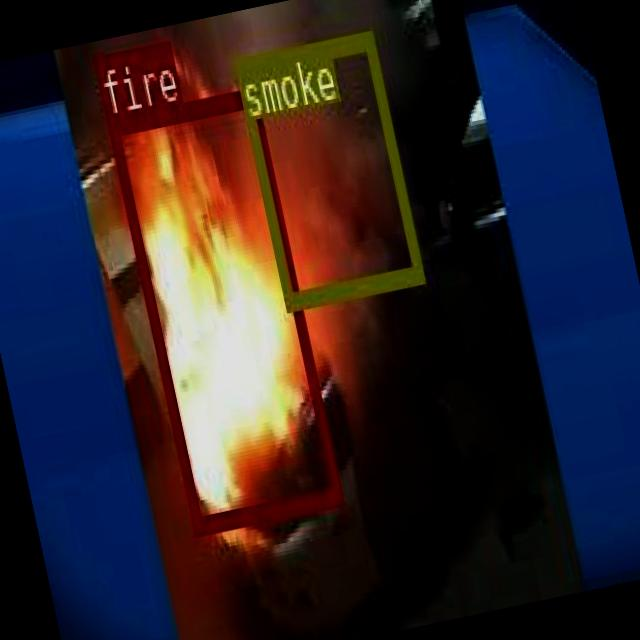fire: (105, 84, 340, 530)
smoke: (232, 29, 422, 308)
